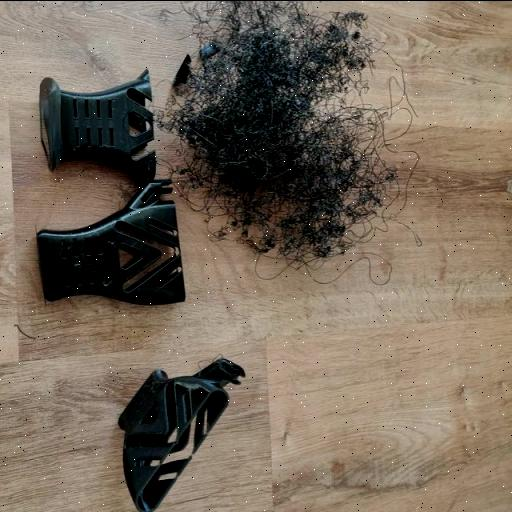spaghetti: (193, 24, 331, 198), (242, 196, 342, 266), (326, 120, 392, 226), (330, 14, 372, 82)
